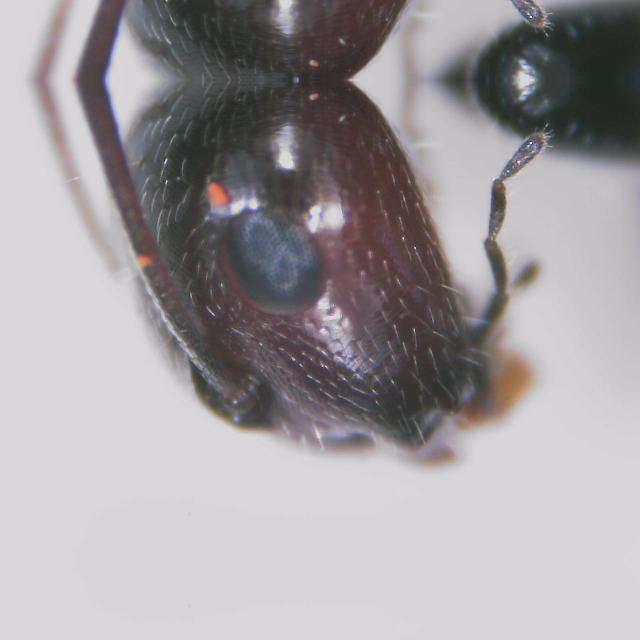Camponotus: (6, 82, 628, 538)
